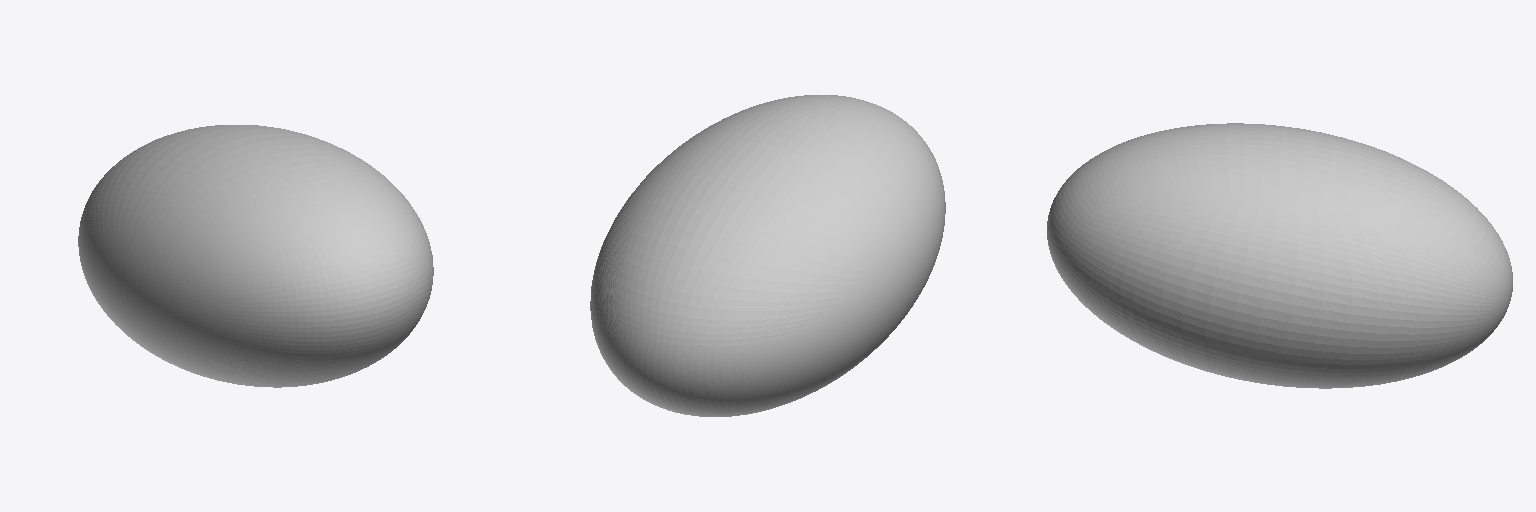
File: fluffPata.obj
3 renders of one model, left to right at view 1: azimuth 30°, elevation 25°; view 2: azimuth 150°, elevation 25°; view 3: azimuth 270°, elevation 25°, orthographic.
Visible parts, largest first — view 1: Cube.002; view 2: Cube.002; view 3: Cube.002.
Boxes of the visible parts, x1=… form: Cube.002: x1=78, y1=125, x2=433, y2=387; Cube.002: x1=590, y1=95, x2=945, y2=416; Cube.002: x1=1047, y1=123, x2=1512, y2=388.
Bounding box in the file's own units: 1.06 × 0.8682 × 1.59.